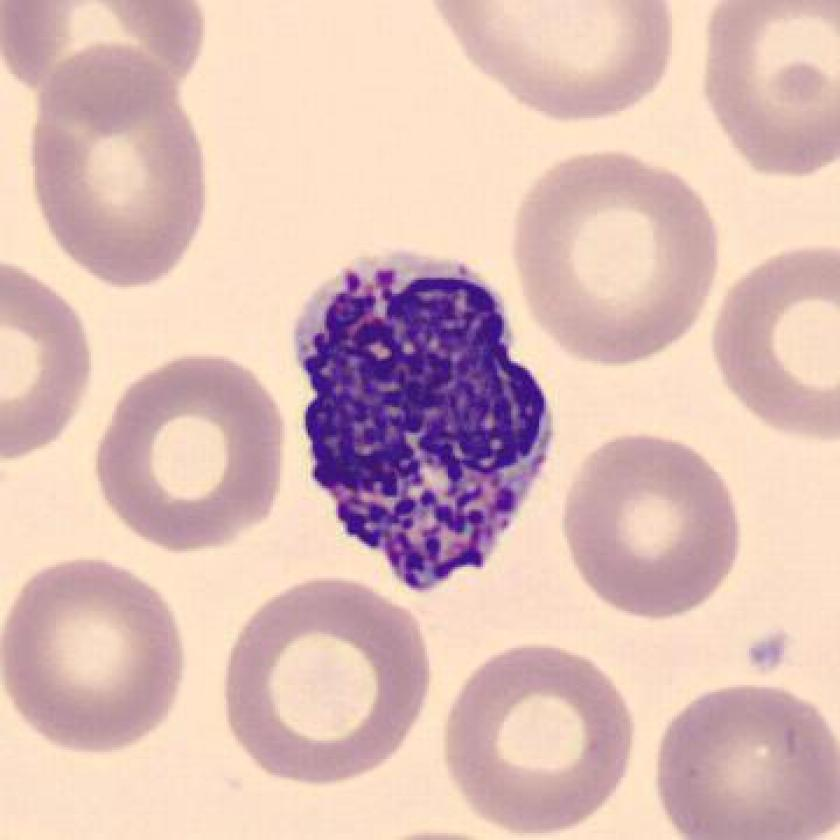basophil: (295, 244, 561, 589)
